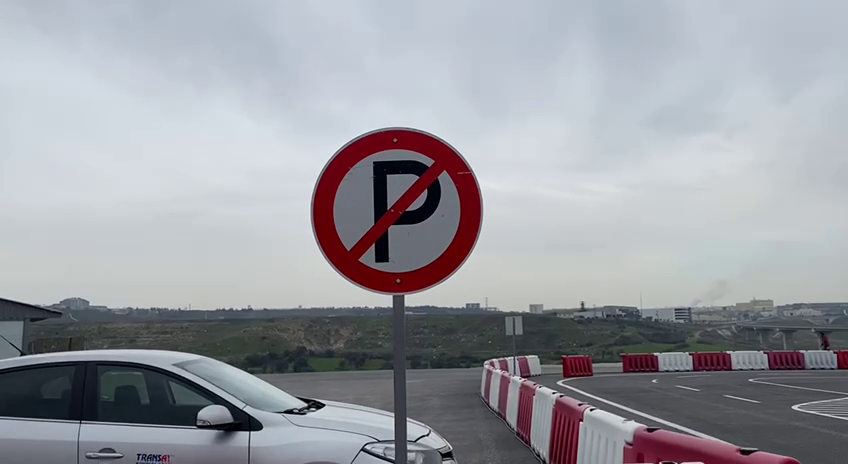noparking: (305, 120, 485, 299)
